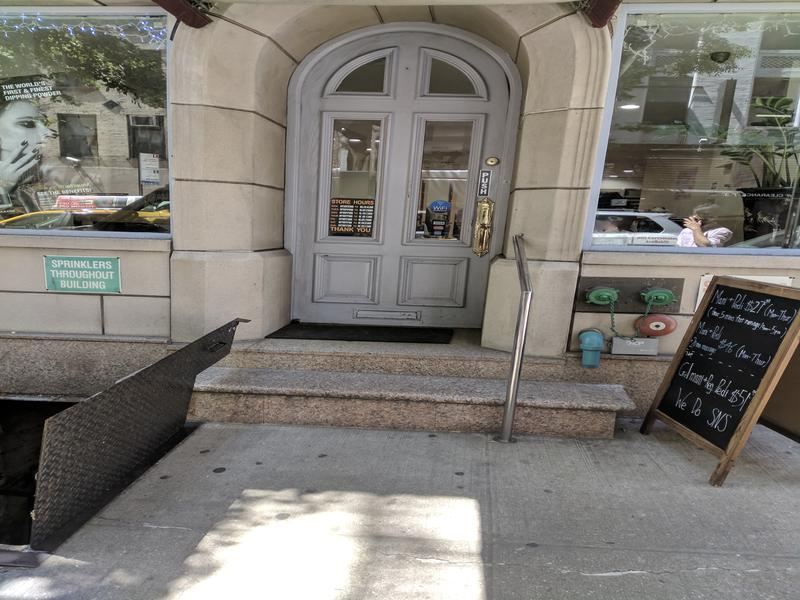door: (281, 32, 513, 336)
